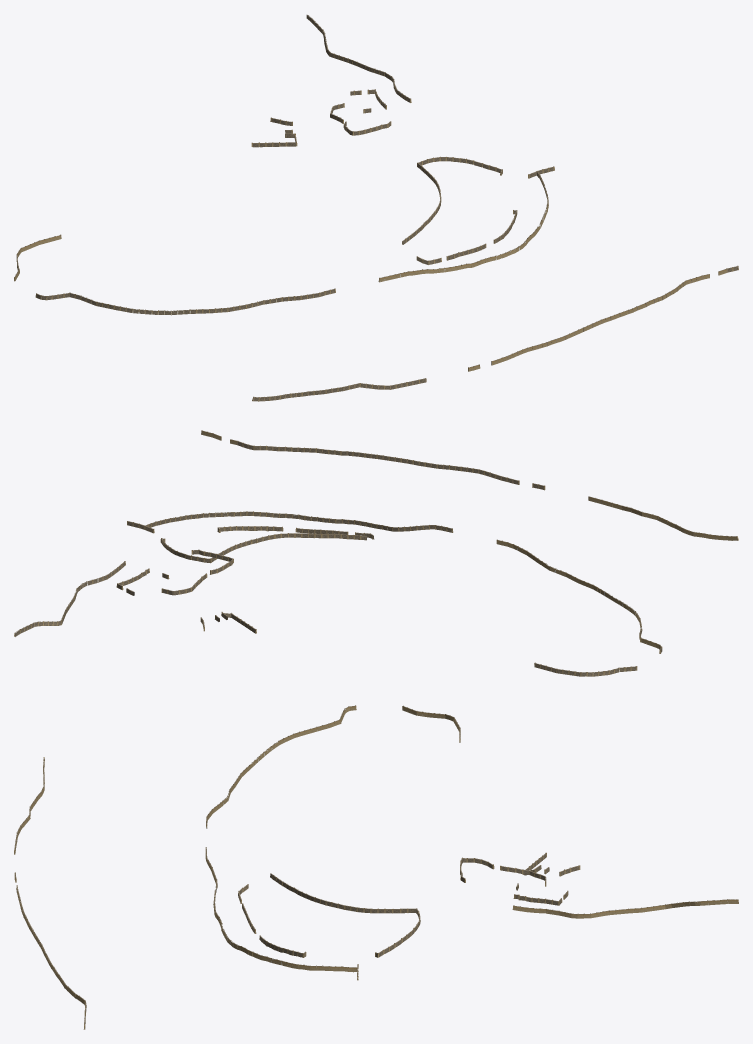
File: objects_un_c01handrail01.gltf
3 views of the same model, one above another, from view 1: azimuth 30°, elevation 25°; view 2: azimuth 150°, elevation 25°; view 3: azimuth 270°, elevation 25° (orthographic). The views are drawn at different scales.
Parts seen in each view (by area): view 1: um_objects_un_c01handrail01_model_lod2Shape:objects_un_c01ha, um_objects_un_c01handrail01_model_lod0Shape:objects_un_c01ha, um_objects_un_c01handrail01_model_lod1Shape:objects_un_c01ha; view 2: um_objects_un_c01handrail01_model_lod2Shape:objects_un_c01ha, um_objects_un_c01handrail01_model_lod0Shape:objects_un_c01ha, um_objects_un_c01handrail01_model_lod1Shape:objects_un_c01ha; view 3: um_objects_un_c01handrail01_model_lod2Shape:objects_un_c01ha, um_objects_un_c01handrail01_model_lod0Shape:objects_un_c01ha, um_objects_un_c01handrail01_model_lod1Shape:objects_un_c01ha.
Part boxes in pixels (bbox=[...]): um_objects_un_c01handrail01_model_lod2Shape:objects_un_c01ha: bbox=[14, 18, 738, 401]; um_objects_un_c01handrail01_model_lod0Shape:objects_un_c01ha: bbox=[14, 15, 738, 401]; um_objects_un_c01handrail01_model_lod1Shape:objects_un_c01ha: bbox=[15, 15, 548, 314]; um_objects_un_c01handrail01_model_lod2Shape:objects_un_c01ha: bbox=[15, 431, 738, 676]; um_objects_un_c01handrail01_model_lod0Shape:objects_un_c01ha: bbox=[14, 430, 738, 676]; um_objects_un_c01handrail01_model_lod1Shape:objects_un_c01ha: bbox=[15, 512, 662, 676]; um_objects_un_c01handrail01_model_lod2Shape:objects_un_c01ha: bbox=[14, 705, 738, 1028]; um_objects_un_c01handrail01_model_lod0Shape:objects_un_c01ha: bbox=[14, 706, 738, 1029]; um_objects_un_c01handrail01_model_lod1Shape:objects_un_c01ha: bbox=[205, 706, 738, 971].
Bounding box in the file's own units: 515 × 56.14 × 527.
Materials: 2 (1 with a texture image).
